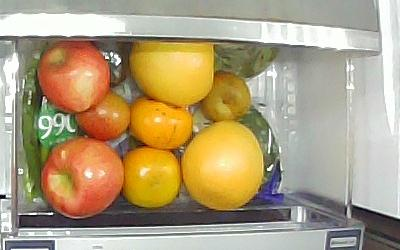apple: (41, 137, 123, 219), (37, 40, 109, 112)
grapefruit: (181, 120, 263, 210), (129, 43, 214, 106)
persimmon: (123, 147, 181, 207), (130, 96, 192, 149)
prune: (74, 91, 131, 140), (199, 71, 250, 123)
